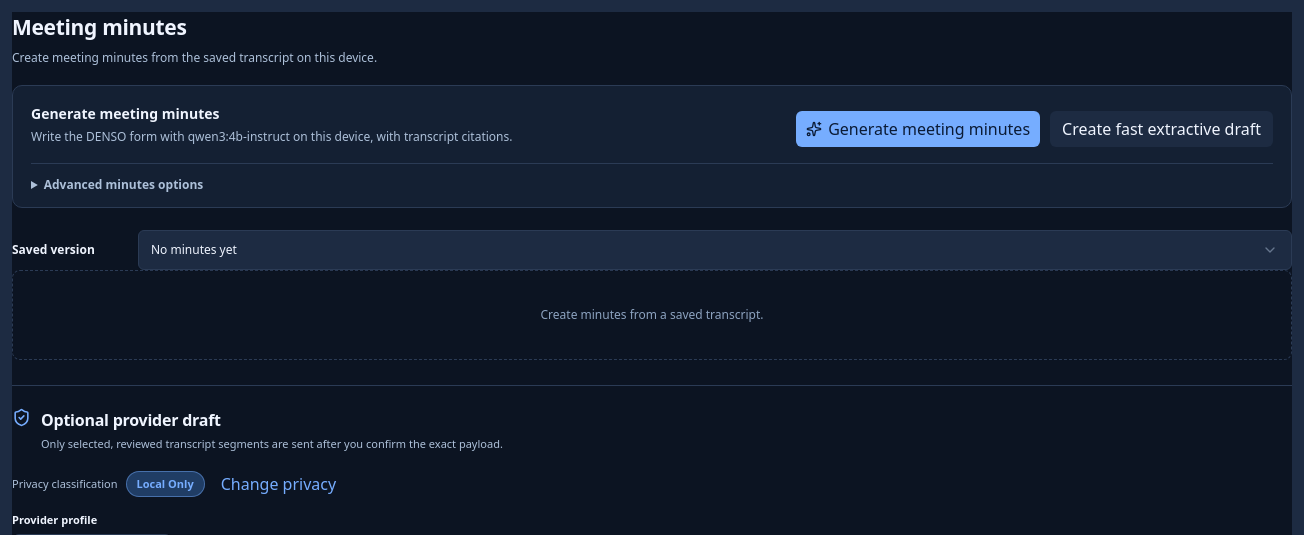
explains when another model task prevents starting AI minutes
Check: the text "Write the DENSO form" is shown, box [31, 128, 512, 145]
Click the button "Generate meeting minutes": (918, 129) [796, 111, 1040, 147]
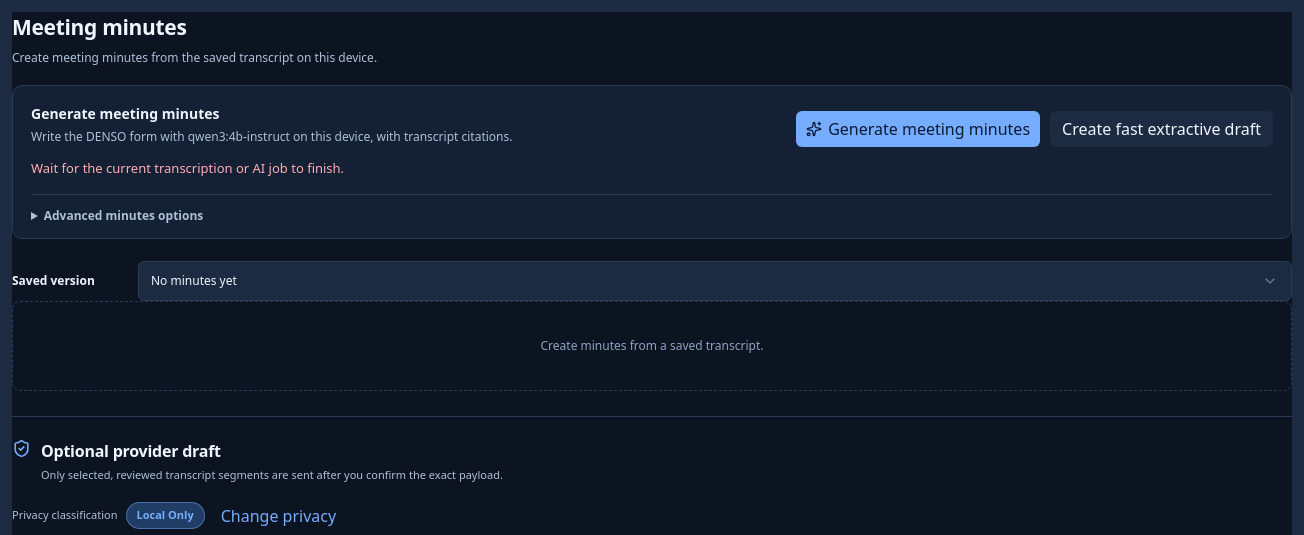
Check: the text "Wait for the current transcription or AI job to finish." is shown, box [31, 159, 344, 177]
